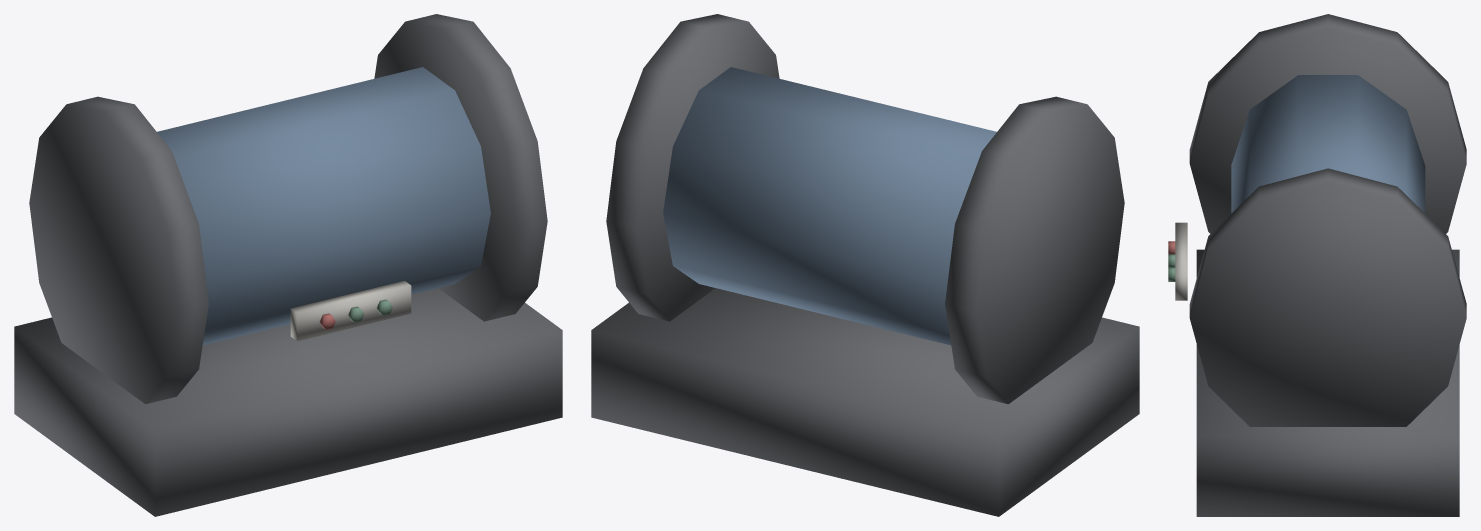
The model's file is bench_grinder__compact.glb.
3 views of the same model, side by side, from view 1: azimuth 30°, elevation 25°; view 2: azimuth 150°, elevation 25°; view 3: azimuth 270°, elevation 25° (orthographic). The views are drawn at different scales.
Visible parts, largest first — view 1: world; view 2: world; view 3: world.
Boxes of the visible parts, x1,y1,x2,y2 form: world: (14, 14, 562, 516); world: (591, 14, 1139, 516); world: (1168, 14, 1466, 516).
Bounding box in the file's own units: 0.546 × 0.4464 × 0.3707.
